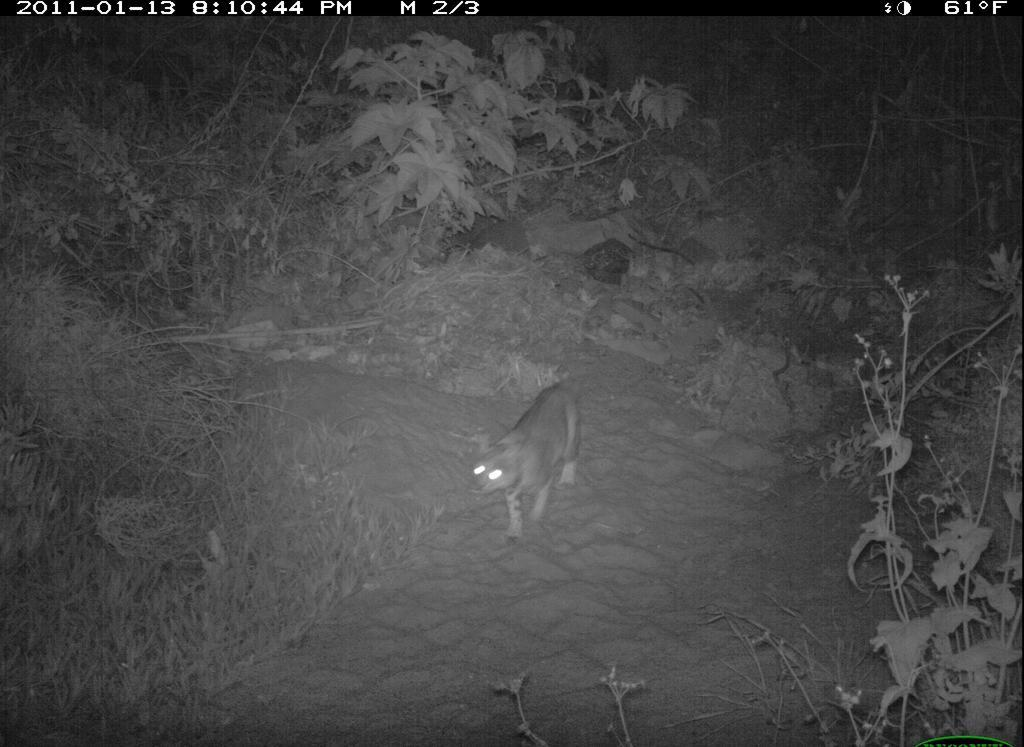bobcat: (469, 374, 592, 553)
